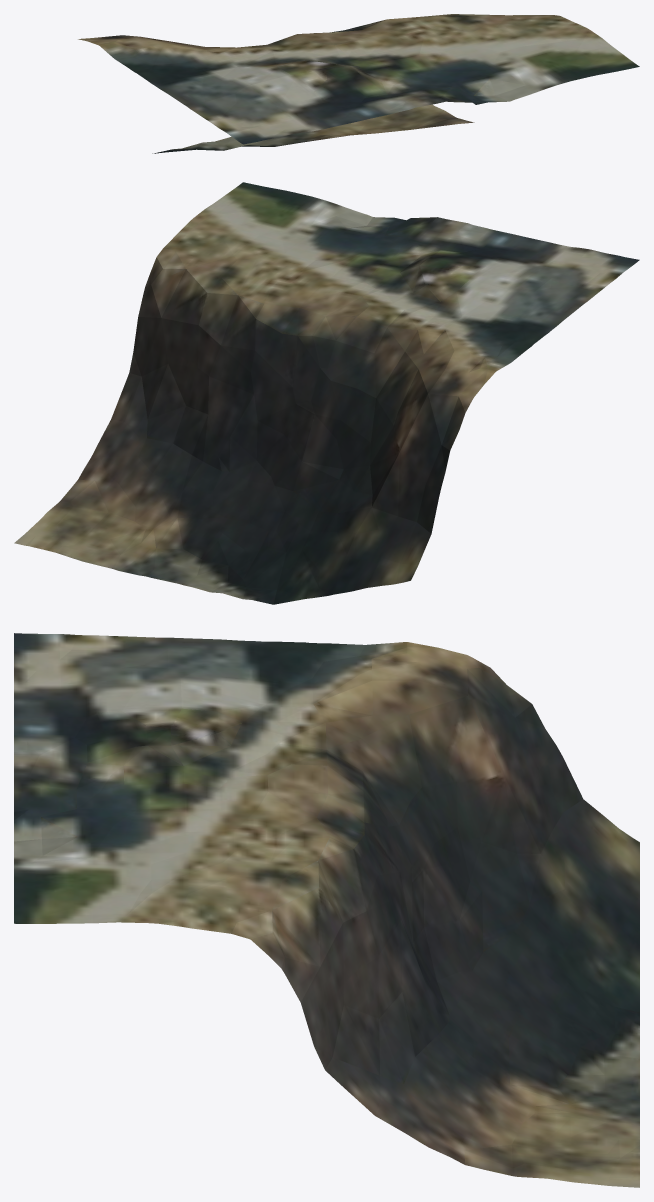
3 renders of one model, top to bottom at view 1: azimuth 30°, elevation 25°; view 2: azimuth 150°, elevation 25°; view 3: azimuth 270°, elevation 25°, orthographic. The views are drawn at different scales.
Bounding box in the file's own units: 52.22 × 26.98 × 52.22.
Materials: 3 (3 with a texture image).
